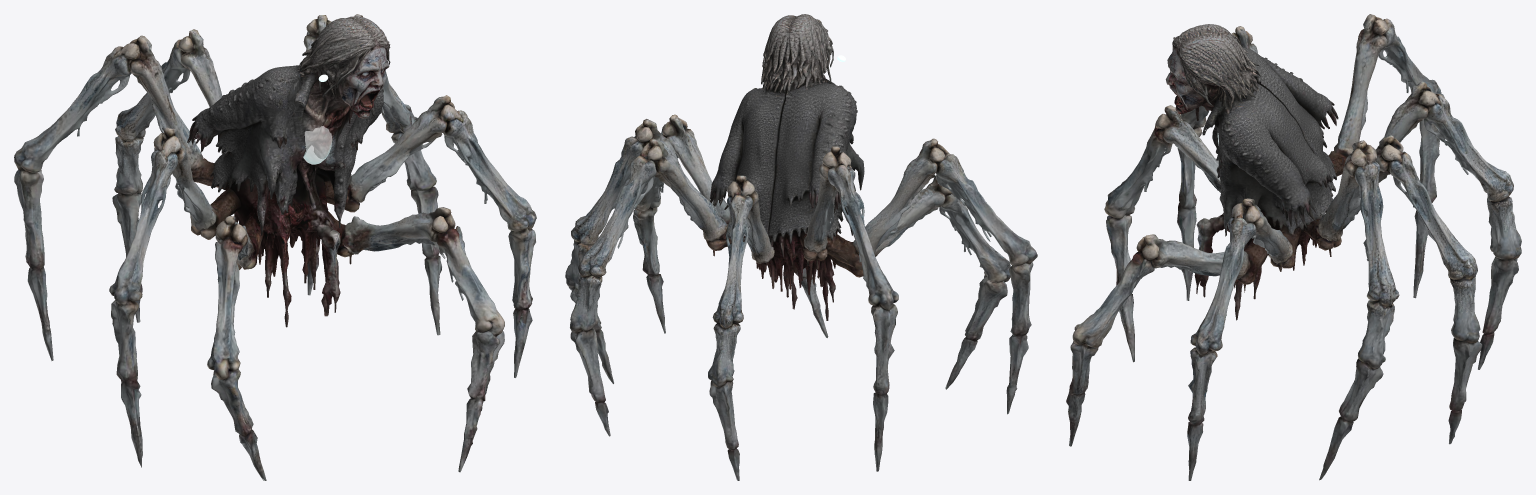
The model's file is mother_p2_hd.glb.
3 views of the same model, side by side, from view 1: azimuth 30°, elevation 25°; view 2: azimuth 150°, elevation 25°; view 3: azimuth 270°, elevation 25° (orthographic). The views are drawn at different scales.
Parts seen in each view (by area): view 1: Body, Leg5_lo, Leg1_lo.001, Leg7_lo, Leg0_lo.001, Leg6_lo, Leg4_lo.001, Leg2_lo, Leg5, Leg0.001, Leg7, Leg4.001 (+1 smaller); view 2: Body, Leg3_lo, Leg6_lo, Leg7_lo, Leg4_lo.001, Leg5_lo, Leg2_lo, Leg0_lo.001, Leg7, Leg3, Leg5, Leg0.001 (+2 smaller); view 3: Body, Leg2_lo, Leg4_lo.001, Leg3_lo, Leg6_lo, Leg1_lo.001, Leg0_lo.001, Leg5_lo, Leg5, Leg7_lo, Leg2, Leg4.001 (+2 smaller).
Boxes of the visible parts, x1=… form: Body: x1=191, y1=16, x2=398, y2=314; Leg5_lo: x1=14, y1=39, x2=153, y2=360; Leg1_lo.001: x1=321, y1=207, x2=504, y2=472; Leg7_lo: x1=109, y1=133, x2=189, y2=467; Leg0_lo.001: x1=414, y1=102, x2=536, y2=377; Leg6_lo: x1=188, y1=117, x2=288, y2=480; Leg4_lo.001: x1=112, y1=36, x2=213, y2=322; Leg2_lo: x1=381, y1=70, x2=441, y2=335; Leg5: x1=132, y1=35, x2=198, y2=158; Leg0.001: x1=365, y1=95, x2=450, y2=190; Leg7: x1=161, y1=127, x2=212, y2=230; Leg4.001: x1=185, y1=29, x2=222, y2=106; Body: x1=711, y1=14, x2=880, y2=306; Leg3_lo: x1=570, y1=143, x2=680, y2=436; Leg6_lo: x1=800, y1=175, x2=1010, y2=389; Leg7_lo: x1=916, y1=144, x2=1037, y2=414; Leg4_lo.001: x1=708, y1=180, x2=758, y2=480; Leg5_lo: x1=819, y1=152, x2=898, y2=471; Leg2_lo: x1=565, y1=123, x2=669, y2=383; Leg0_lo.001: x1=633, y1=118, x2=700, y2=333; Leg7: x1=865, y1=138, x2=937, y2=254; Leg3: x1=649, y1=138, x2=722, y2=241; Leg5: x1=804, y1=146, x2=845, y2=252; Leg0.001: x1=670, y1=114, x2=716, y2=207; Body: x1=1165, y1=24, x2=1338, y2=307; Leg2_lo: x1=1319, y1=145, x2=1399, y2=480; Leg4_lo.001: x1=1400, y1=86, x2=1521, y2=369; Leg3_lo: x1=1375, y1=138, x2=1482, y2=444; Leg6_lo: x1=1104, y1=102, x2=1352, y2=362; Leg1_lo.001: x1=1066, y1=201, x2=1341, y2=446; Leg0_lo.001: x1=1187, y1=201, x2=1268, y2=480; Leg5_lo: x1=1356, y1=17, x2=1444, y2=298; Leg5: x1=1338, y1=14, x2=1386, y2=152; Leg7_lo: x1=1177, y1=32, x2=1257, y2=300; Leg2: x1=1318, y1=140, x2=1372, y2=236; Leg4.001: x1=1376, y1=81, x2=1426, y2=149.
Bounding box in the file's own units: 3.3 × 3 × 3.09.
3 materials, 1 textured.
